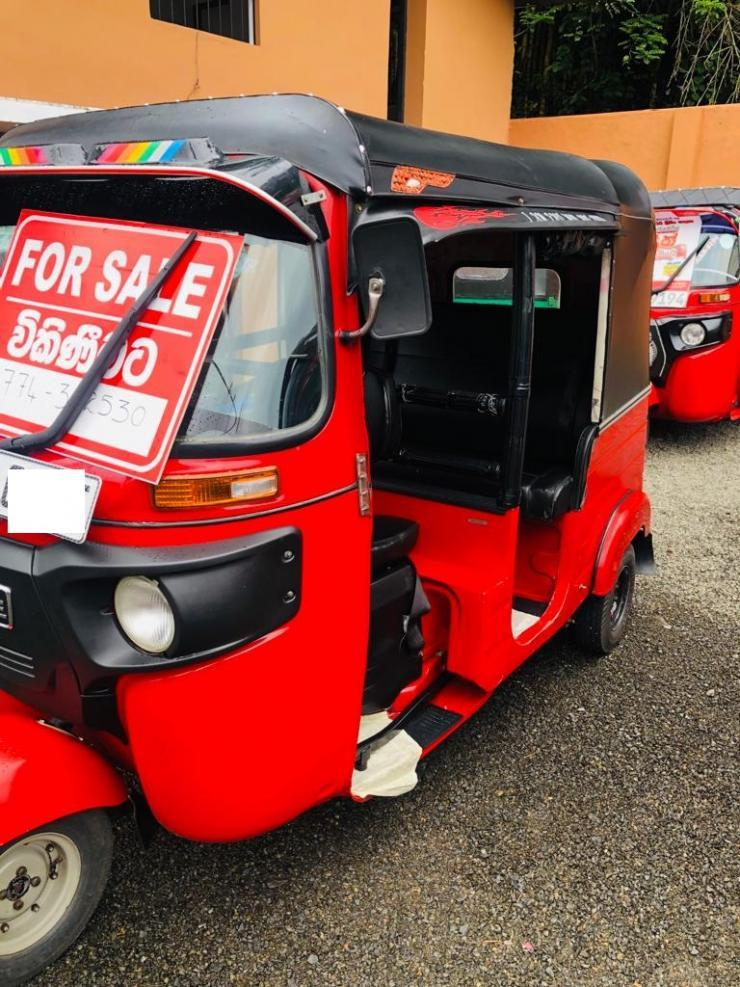threewheel: (1, 90, 654, 987), (642, 187, 740, 422)
